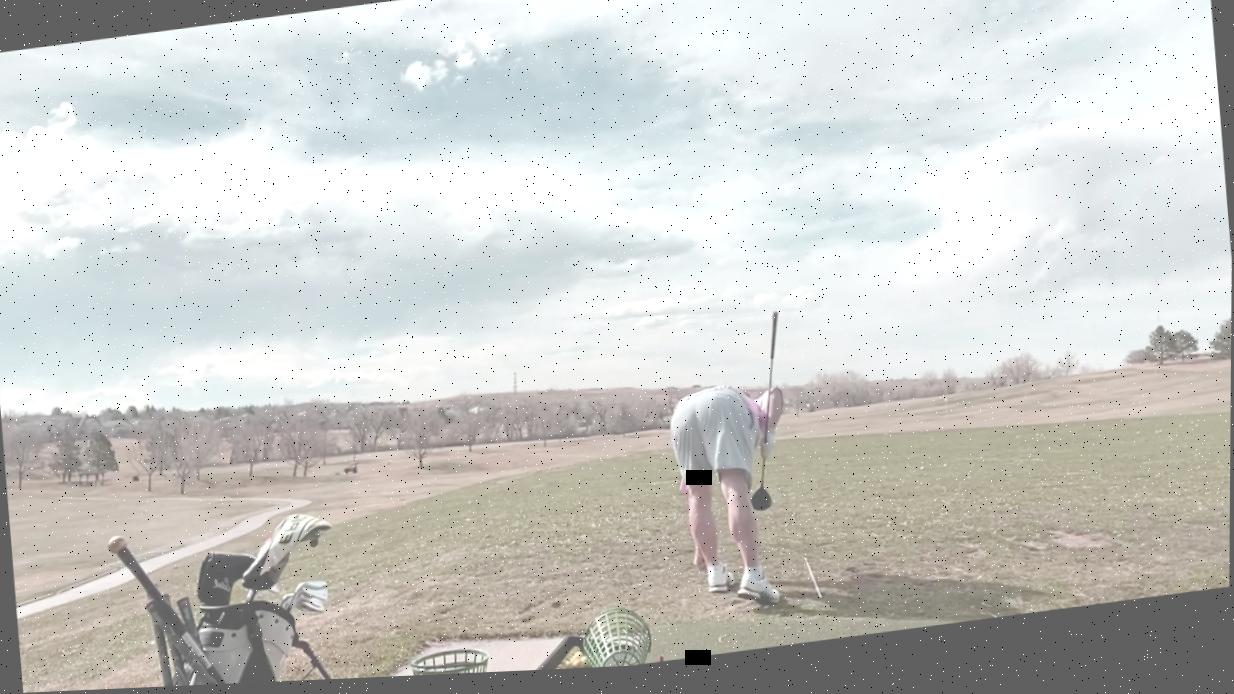ClubHead: (745, 485, 780, 528)
